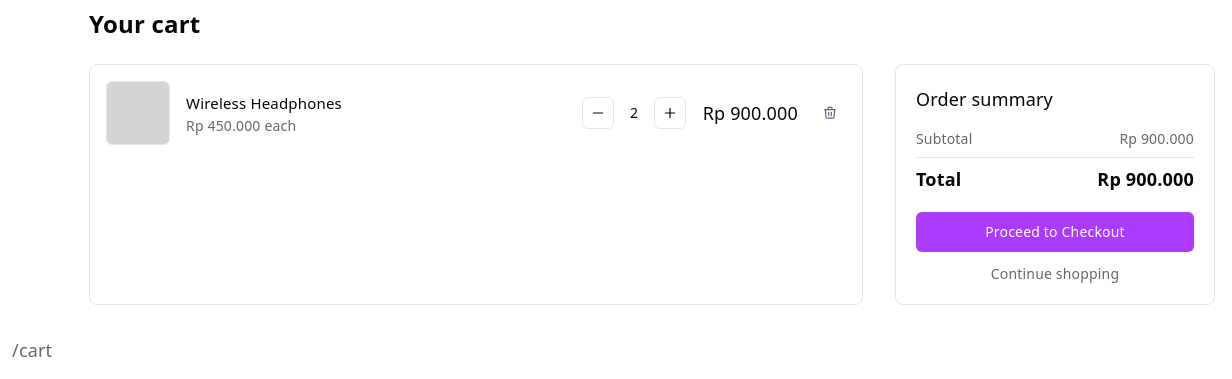
Test case: CartPage › navigates to /checkout when "Proceed to Checkout" is clicked
Click the button "Proceed to Checkout" at (1055, 232), box [916,212,1194,252]
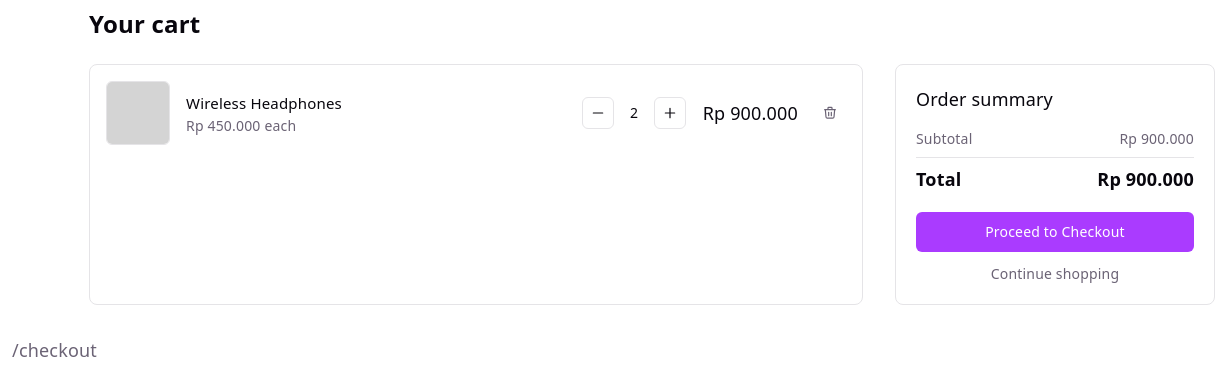
Expected: the text with test id "location" reads "/checkout", [12,338,97,362]
